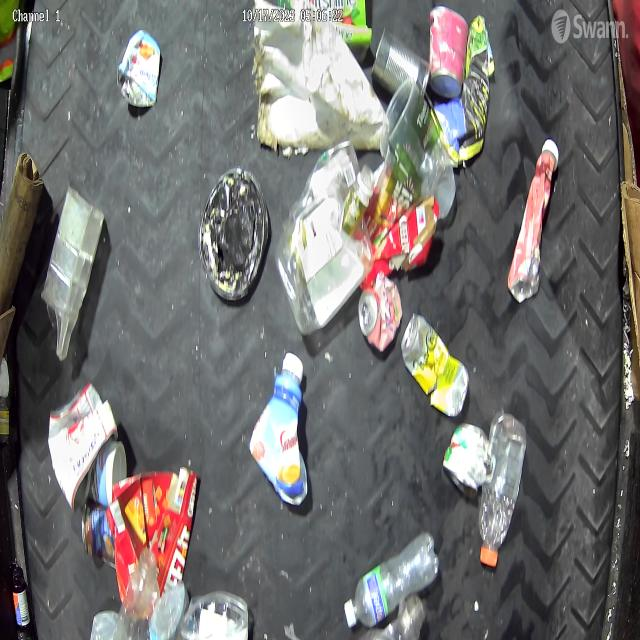can: (400, 312, 466, 417), (370, 30, 430, 106), (358, 268, 402, 352), (428, 8, 467, 98), (444, 422, 491, 494)
plastic_bottle: (347, 532, 441, 629), (476, 409, 527, 568)
